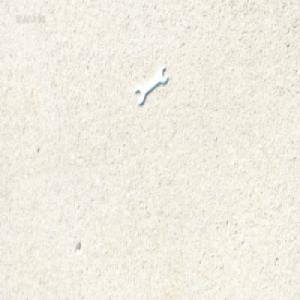Wrench: (135, 67, 168, 106)
